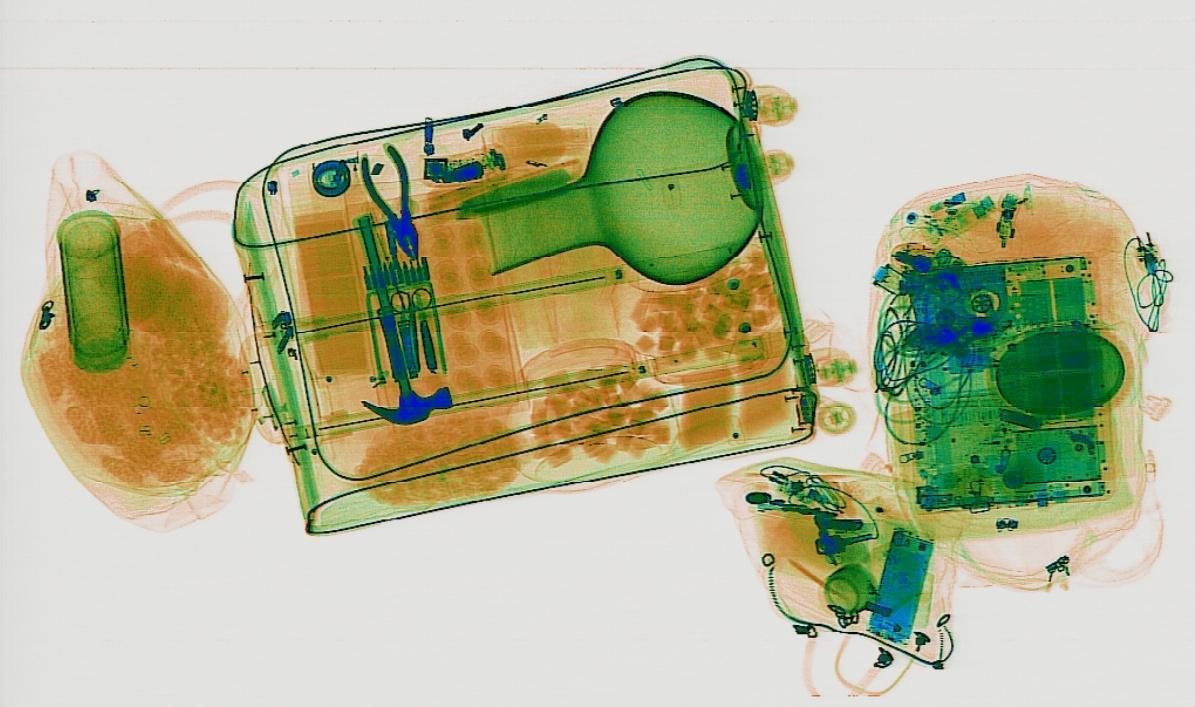Pliers: (350, 145, 435, 260)
Scissors: (384, 288, 438, 359)
